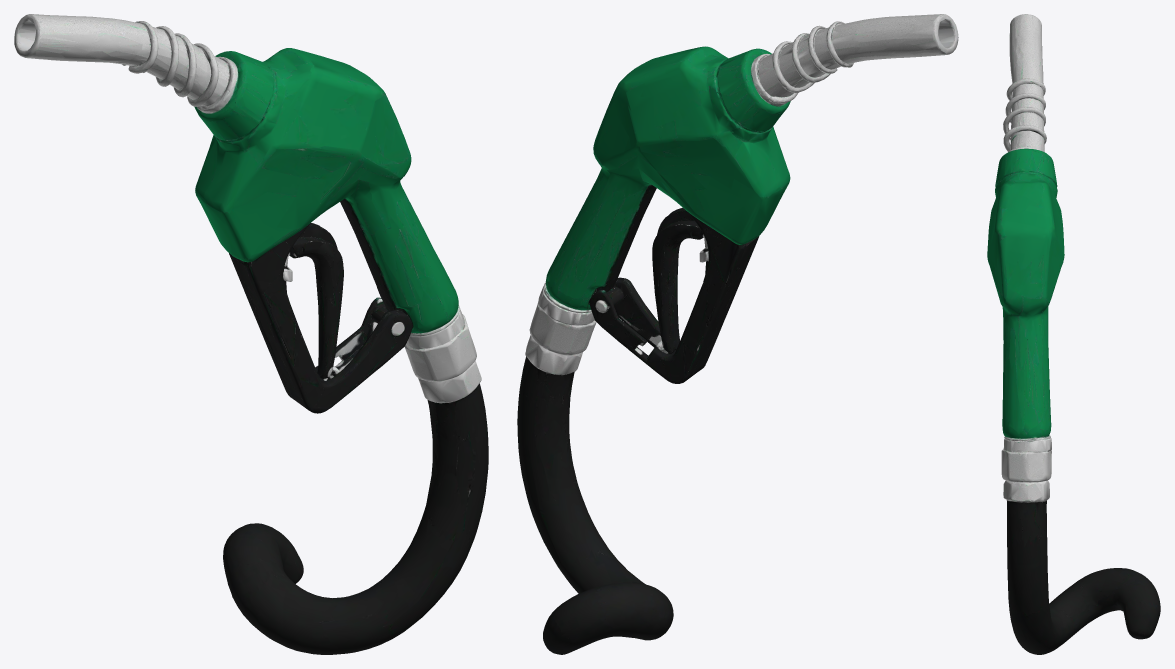
Rendered from nozzle.glb.
3 views of the same model, side by side, from view 1: azimuth 30°, elevation 25°; view 2: azimuth 150°, elevation 25°; view 3: azimuth 270°, elevation 25° (orthographic). The views are drawn at different scales.
Parts seen in each view (by area): view 1: Mesh_0; view 2: Mesh_0; view 3: Mesh_0.
Boxes of the visible parts, x1,y1,x2,y2 form: Mesh_0: (14, 14, 488, 654); Mesh_0: (517, 14, 958, 654); Mesh_0: (987, 14, 1160, 654).
Bounding box in the file's own units: 1.28 × 1.9 × 0.5737.
1 material, 1 textured.
